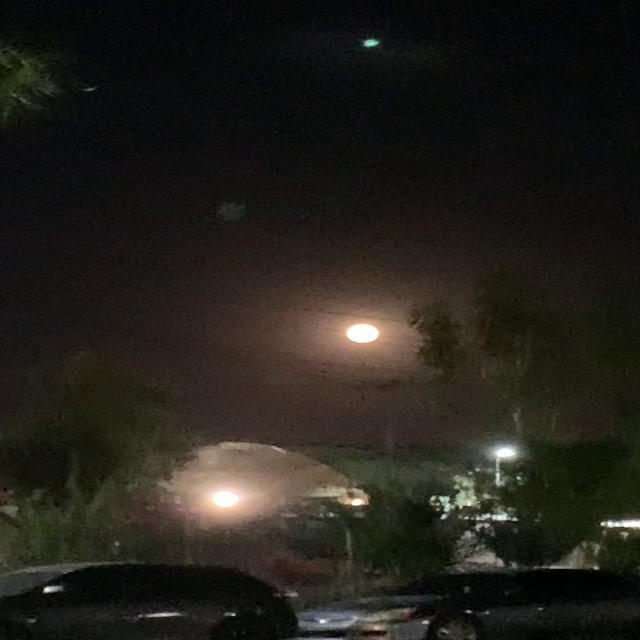moon: (343, 326, 385, 350)
